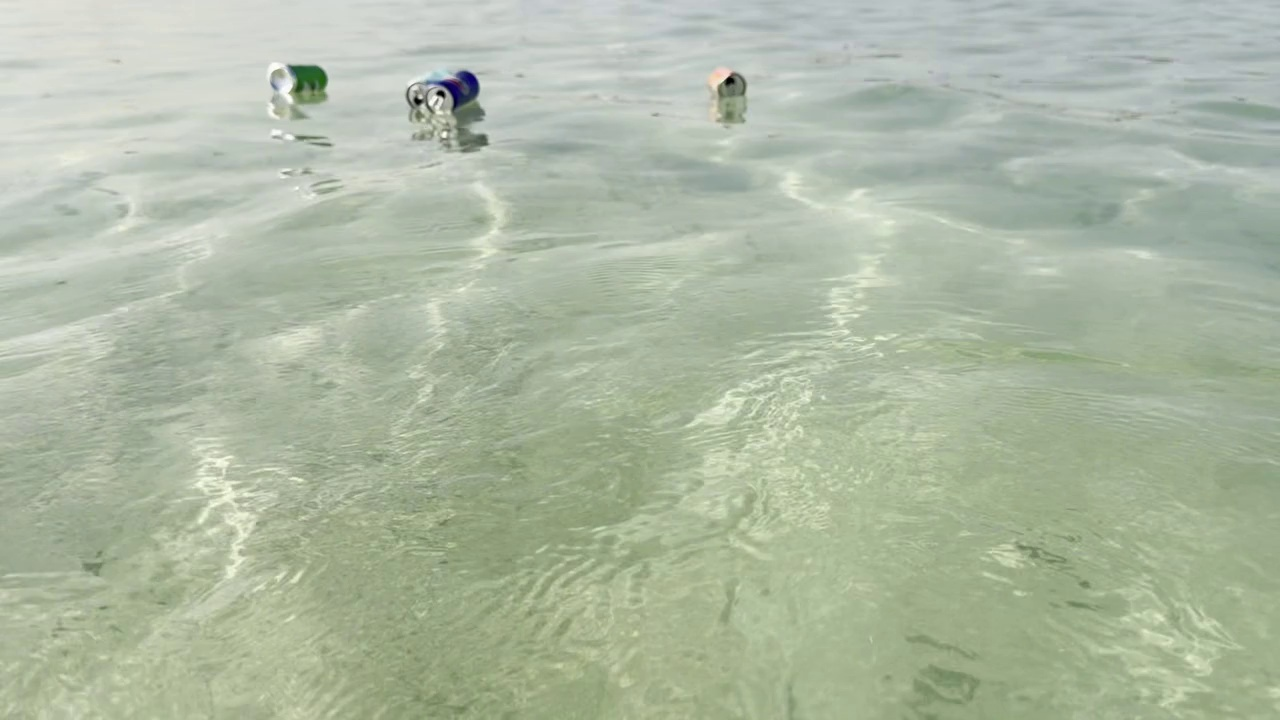debris: (264, 57, 337, 105), (425, 65, 487, 120), (405, 64, 458, 114), (700, 59, 754, 104)
